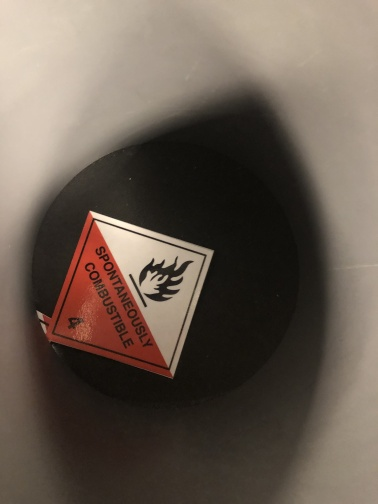SpontaneouslyCombustible: (45, 209, 214, 378)
